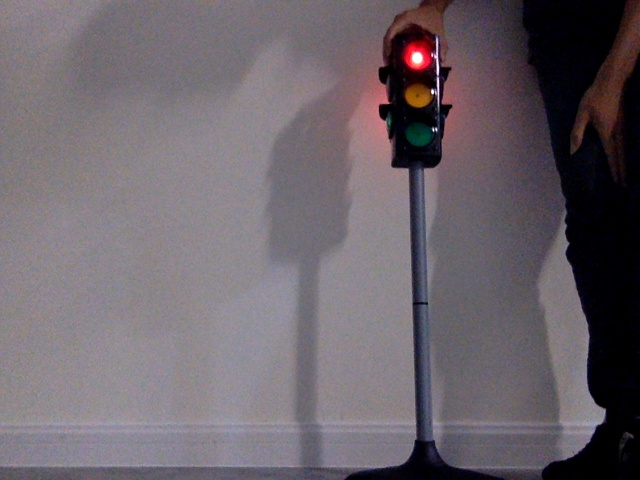red: (396, 41, 434, 153)
